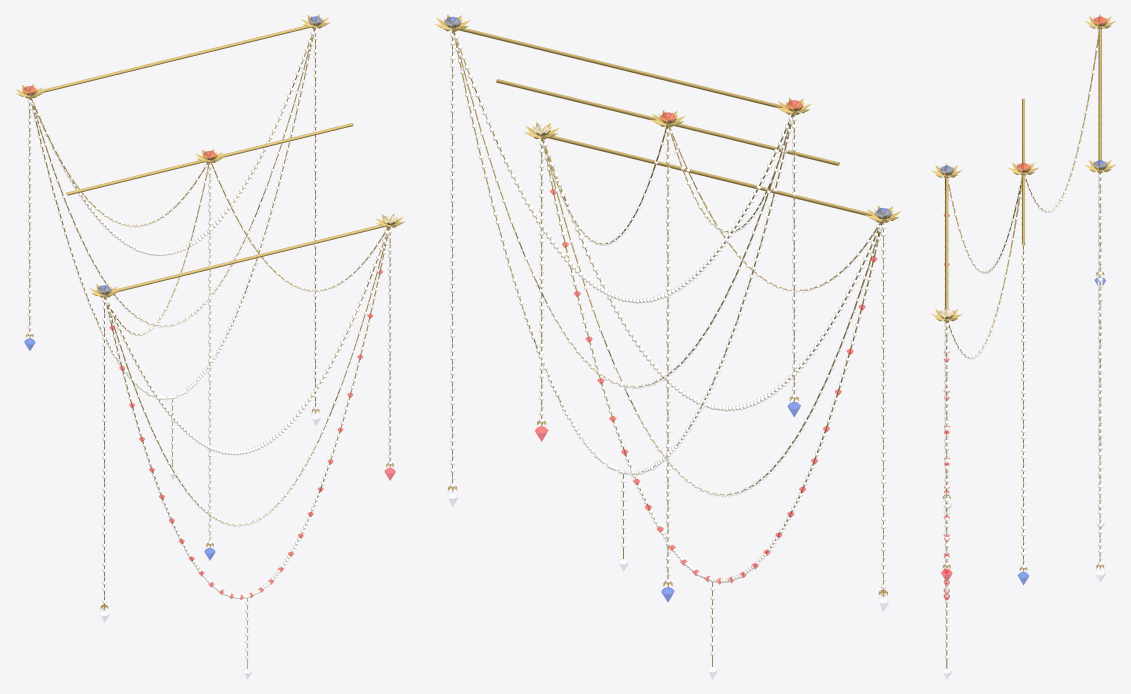
Rendered from ramou_short.glb.
3 views of the same model, side by side, from view 1: azimuth 30°, elevation 25°; view 2: azimuth 150°, elevation 25°; view 3: azimuth 270°, elevation 25° (orthographic). The views are drawn at different scales.
Parts seen in each view (by area): view 1: pearl_batch, gold_wire, hari_batch, gold_fitting, shuju_batch; view 2: pearl_batch, gold_wire, hari_batch, gold_fitting, shuju_batch; view 3: pearl_batch, gold_wire, hari_batch, gold_fitting, shuju_batch, lapis_batch.
Part boxes in pixels (x1,y1,x2,y2): pearl_batch: (27, 30, 391, 659); gold_wire: (29, 25, 390, 668); hari_batch: (27, 26, 396, 679); gold_fitting: (15, 14, 404, 610); shuju_batch: (23, 86, 395, 599); pearl_batch: (450, 28, 885, 655); gold_wire: (452, 27, 883, 666); hari_batch: (446, 28, 889, 679); gold_fitting: (435, 14, 901, 596); shuju_batch: (535, 100, 877, 584); pearl_batch: (944, 26, 1102, 658); gold_wire: (945, 29, 1101, 668); hari_batch: (940, 36, 1105, 679); gold_fitting: (931, 14, 1115, 572); shuju_batch: (941, 16, 1107, 600); lapis_batch: (940, 160, 1107, 584).
Size of the model in its own units: 6.8 by 11.87 by 3.4.
